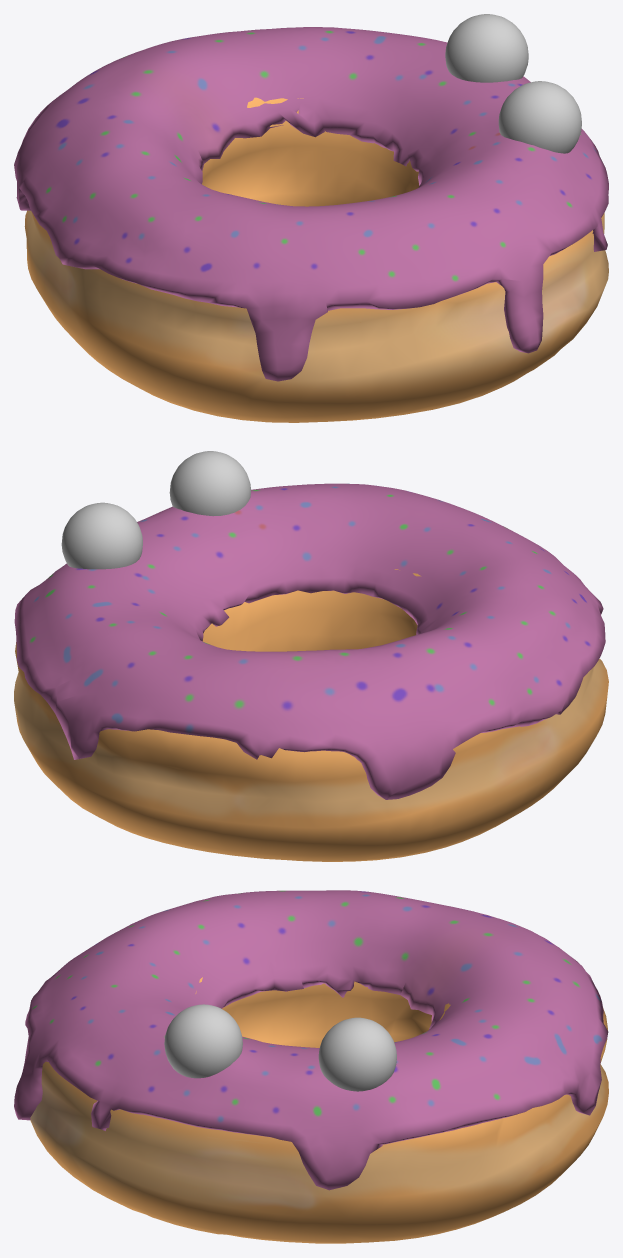
File: donut.fbx
3 renders of one model, top to bottom at view 1: azimuth 30°, elevation 25°; view 2: azimuth 150°, elevation 25°; view 3: azimuth 270°, elevation 25°, orthographic. The views are drawn at different scales.
Visible parts, largest first — view 1: high_up, high_down, Sphere.003, Sphere.001; view 2: high_up, high_down, Sphere.003, Sphere.001; view 3: high_up, high_down, Sphere.003, Sphere.001.
Boxes of the visible parts, x1,y1,x2,y2 form: high_up: (14, 27, 608, 381); high_down: (24, 97, 608, 422); Sphere.003: (445, 14, 528, 82); Sphere.001: (498, 81, 581, 153); high_up: (14, 483, 605, 799); high_down: (14, 569, 608, 861); Sphere.003: (61, 502, 142, 569); Sphere.001: (169, 451, 251, 516); high_up: (14, 890, 608, 1190); high_down: (30, 977, 608, 1243); Sphere.003: (318, 1017, 396, 1091); Sphere.001: (164, 1004, 242, 1078).
Bounding box in the file's own units: 1431 × 659 × 1513.
